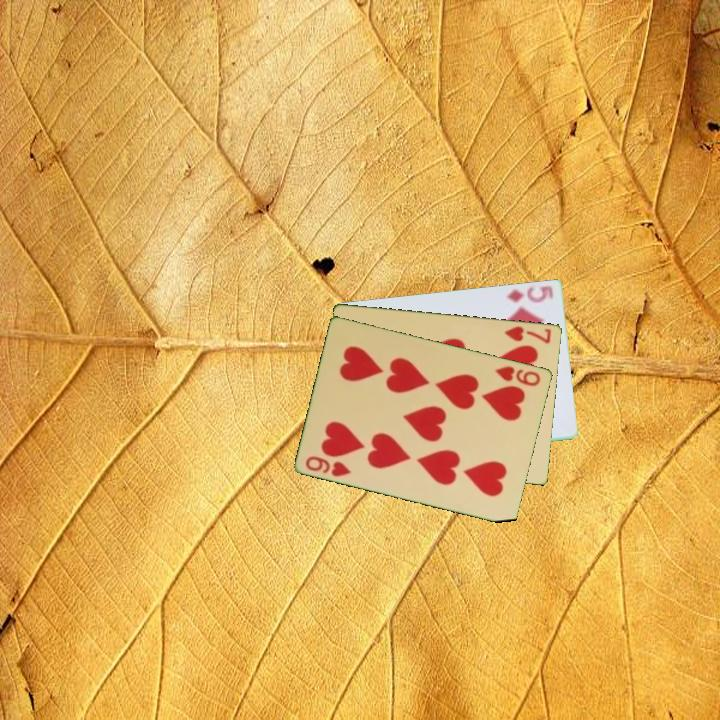5d: (504, 282, 556, 305)
7h: (501, 322, 554, 346)
9h: (492, 362, 544, 389), (302, 452, 354, 479)
